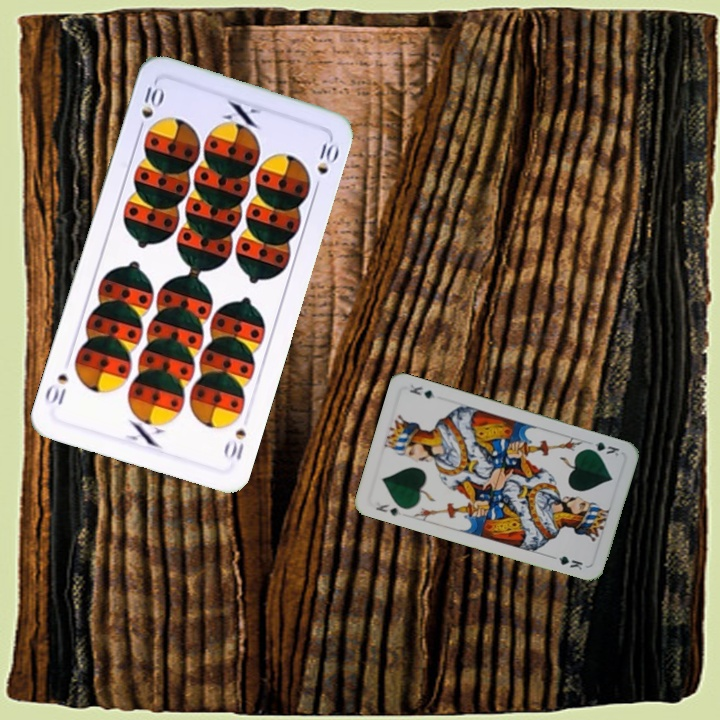GK: (582, 438, 622, 459), (372, 500, 403, 518)
S10: (133, 82, 166, 136), (220, 425, 249, 463)
